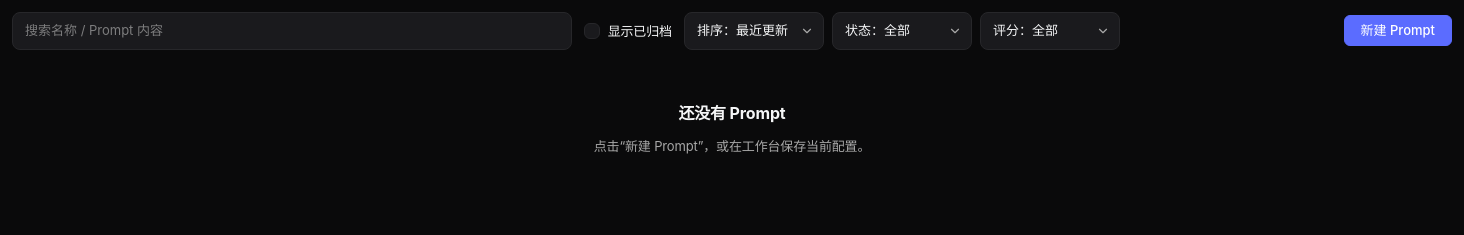
it: Prompt URL 筛选 › 切换为仅已评分时更新请求与 URL
This screenshot has width=1464, height=235.
Select "仅已评分" in the dropdown named "已评分". click: [1050, 31]
box: x1=980 y1=12 x2=1120 y2=50
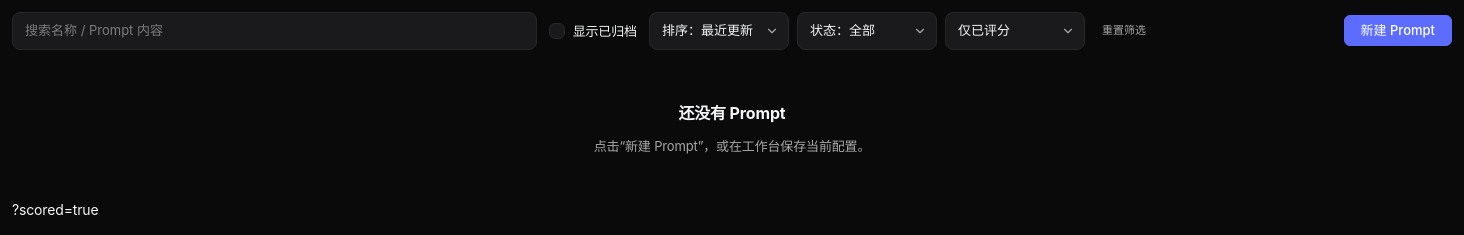
Expected: the text with test id "location-search" shows "scored=true", x1=12 y1=201 x2=98 y2=218
